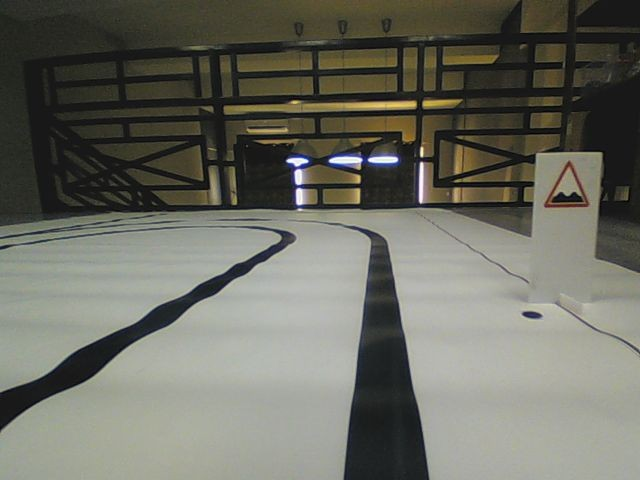Nerov: (542, 159, 590, 209)
